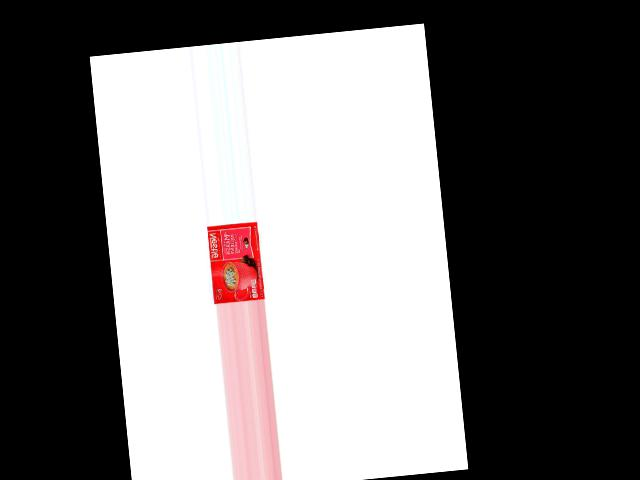chocolate: (208, 223, 267, 304)
